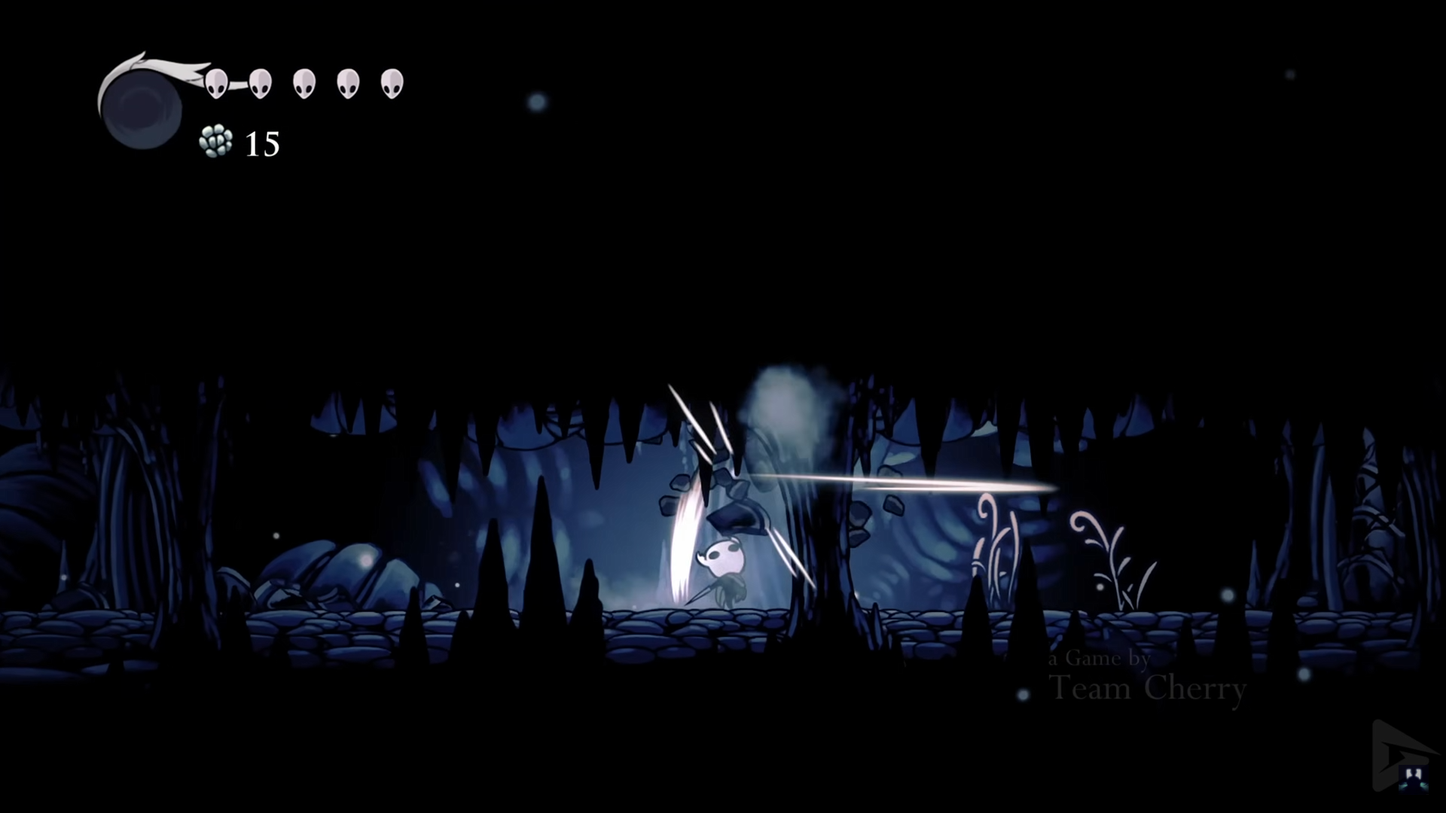HK: (692, 531, 757, 616)
